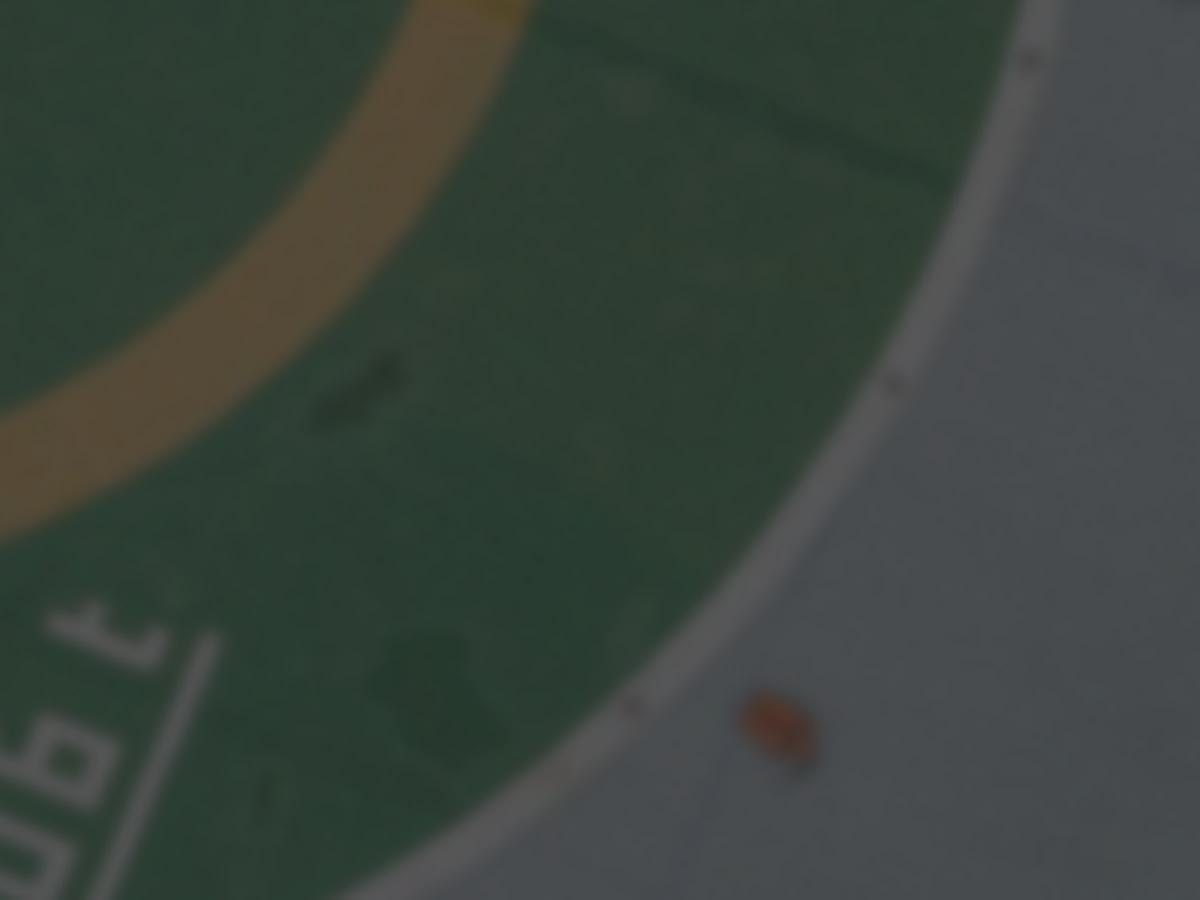Apron: (1, 1, 538, 548)
